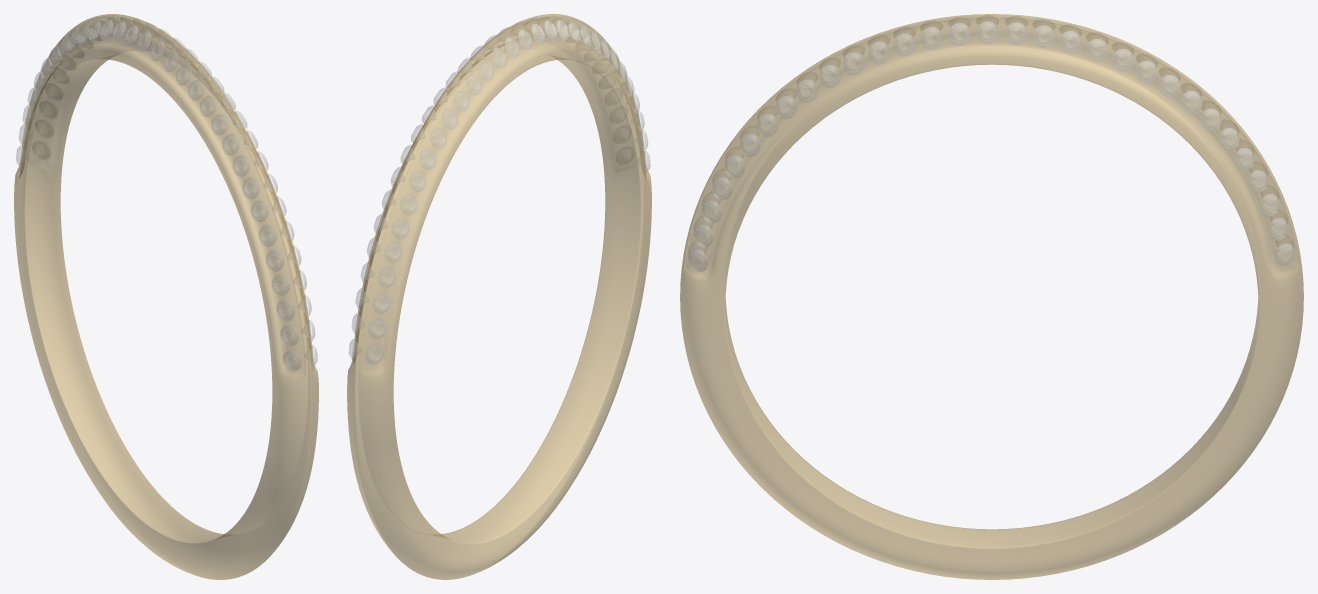
The picture shows the model from 3 angles, left to right: view 1: azimuth 30°, elevation 25°; view 2: azimuth 150°, elevation 25°; view 3: azimuth 270°, elevation 25°; orthographic projection. The views are drawn at different scales.
Parts seen in each view (by area): view 1: ring, diamond; view 2: ring, diamond; view 3: ring, diamond.
Part boxes in pixels (x1=…): ring: x1=14, y1=14, x2=318, y2=579; diamond: x1=16, y1=17, x2=317, y2=370; ring: x1=347, y1=14, x2=651, y2=579; diamond: x1=349, y1=17, x2=650, y2=364; ring: x1=680, y1=14, x2=1303, y2=579; diamond: x1=688, y1=15, x2=1294, y2=271.
Size of the model in its own units: 0.1613 by 2.21 by 2.21.
